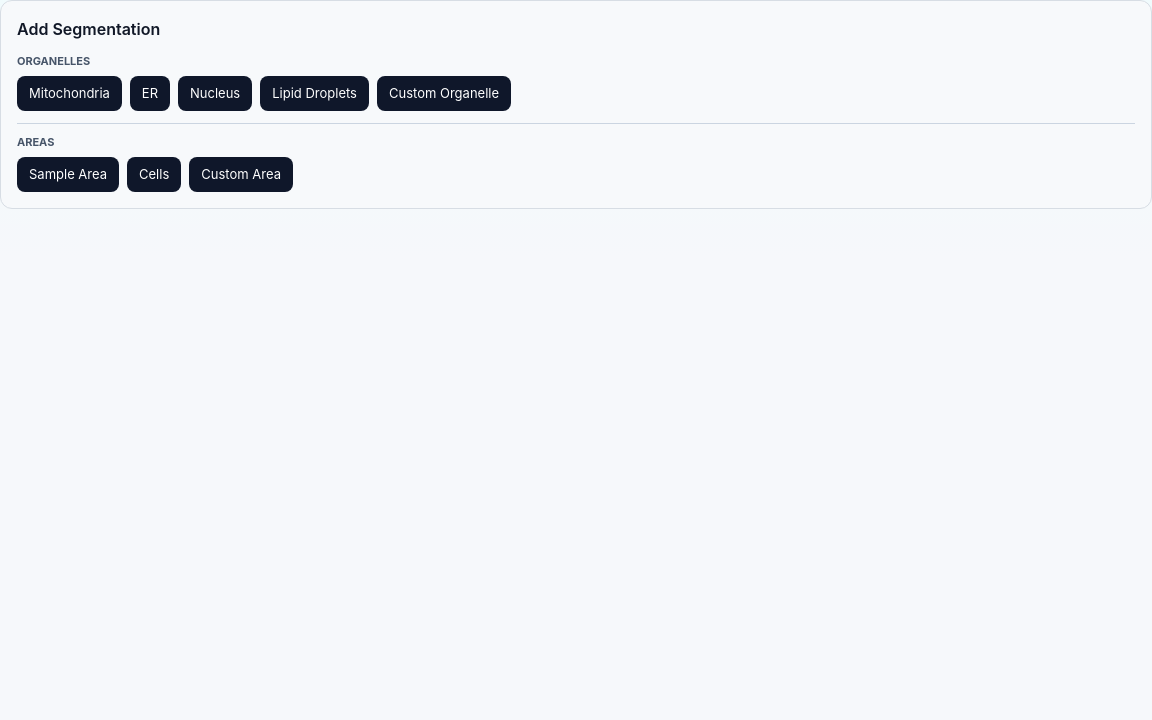
SegmentationCreatePanel › preselects QuantEM when it is the only downloaded model
This screenshot has width=1152, height=720.
Click the button "Mitochondria".
click(69, 93)  # box [17, 76, 122, 111]
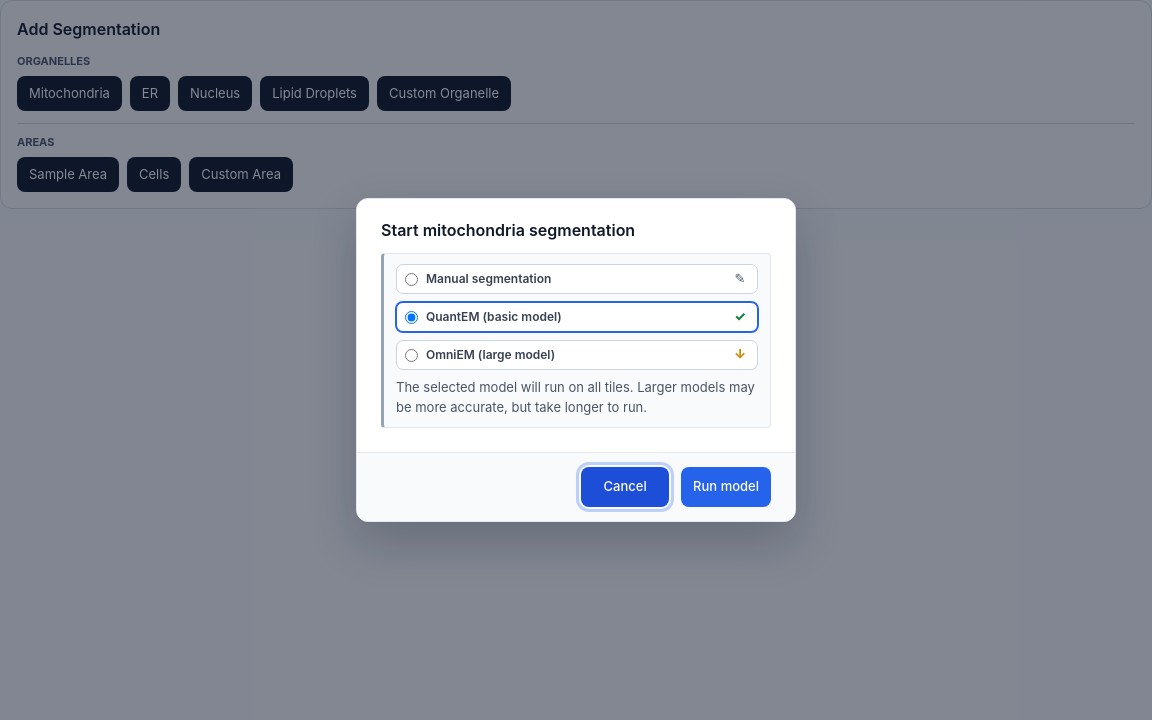
Expected: the radio button labelled "QuantEM (basic model) ✓" is checked, [405, 311, 418, 324]
